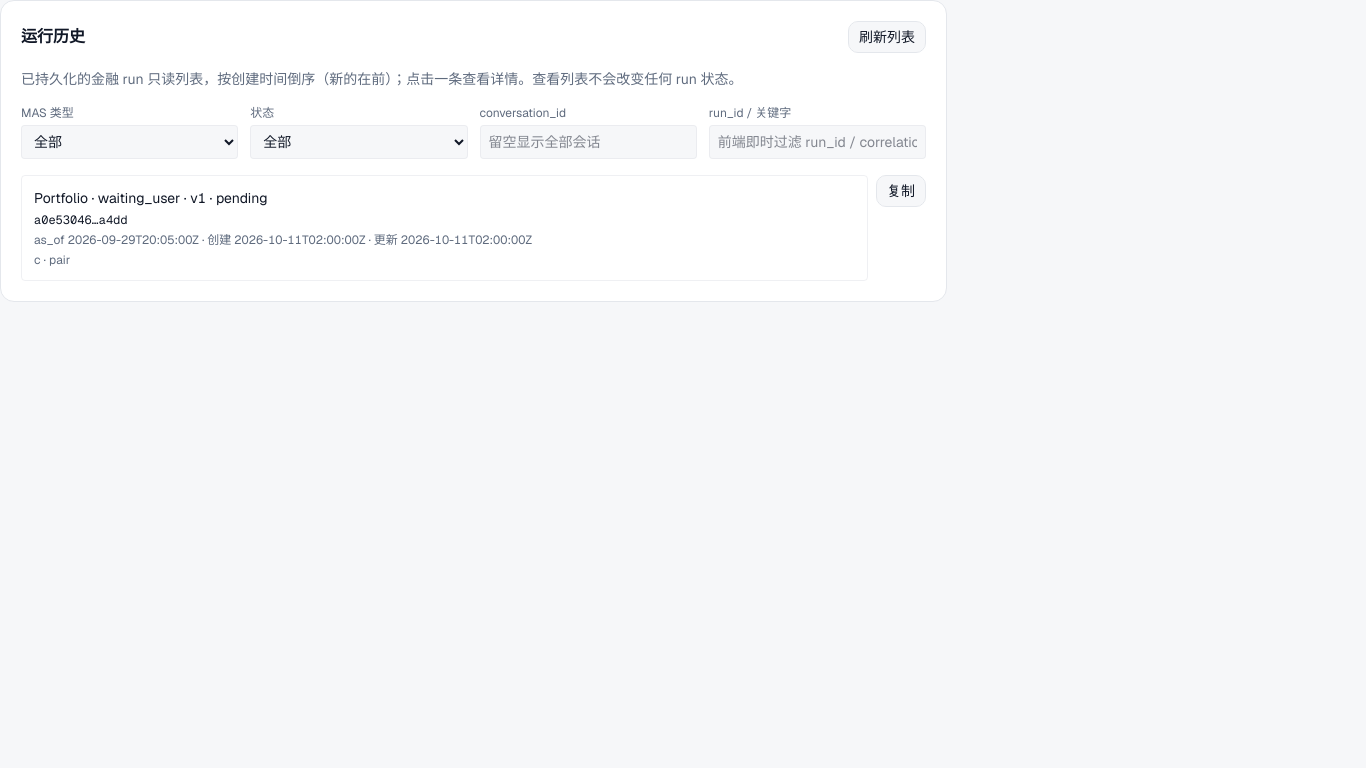
Test case: 金融 MAS 运行历史 › truncates long run ids, copies the full id and keeps paired portfolio runs labelled Portfolio
Expected: the text "a0e53046…a4dd" is shown, [34,212,128,228]
Expected: the text "Portfolio · waiting_user · v1 · pending" is shown, [34,189,268,207]
Click the button "复制" at (901, 191), box [876,175,926,207]
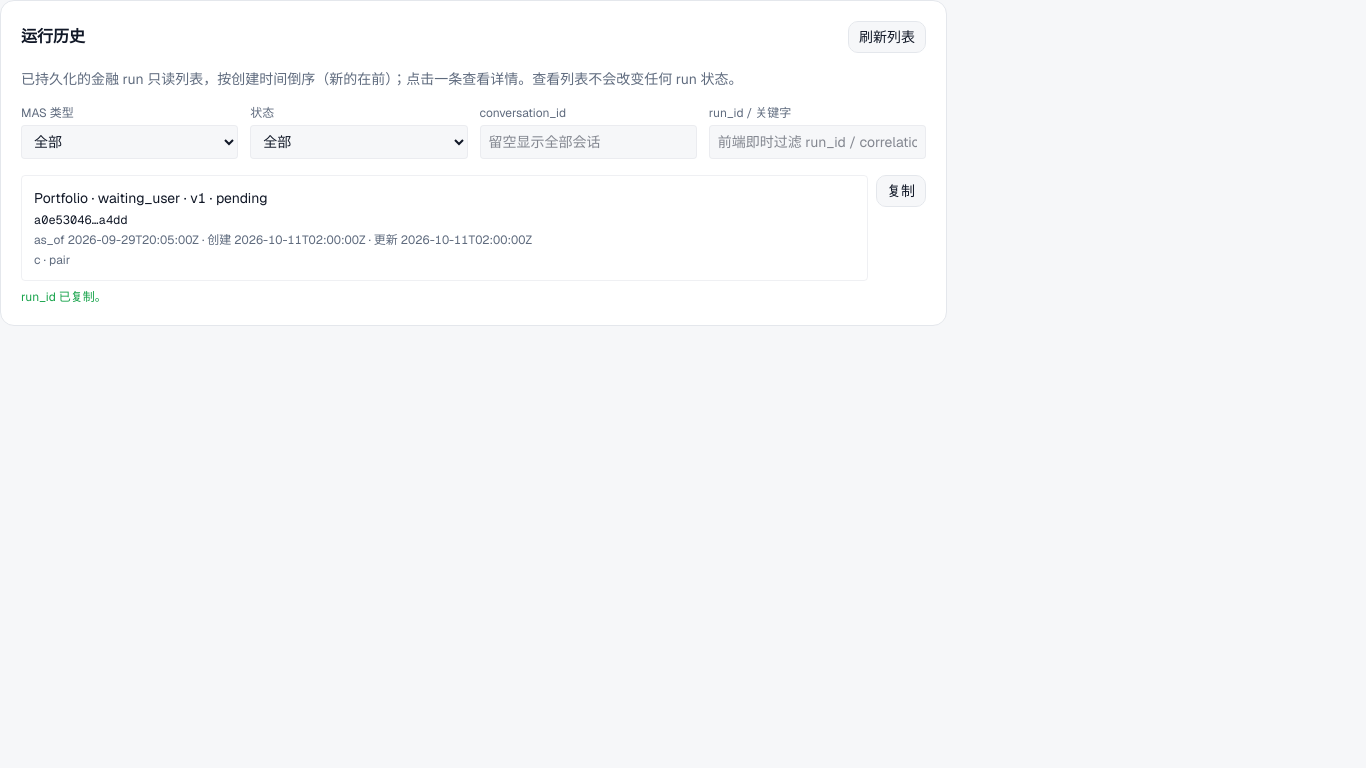
Expected: the text "run_id 已复制。" is shown, [21,289,107,305]
Click the button with aria-label "查看运行 a0e53046-e4f2-49cf-bb5d-3104856da4dd" at (61, 198), box [21,175,868,281]
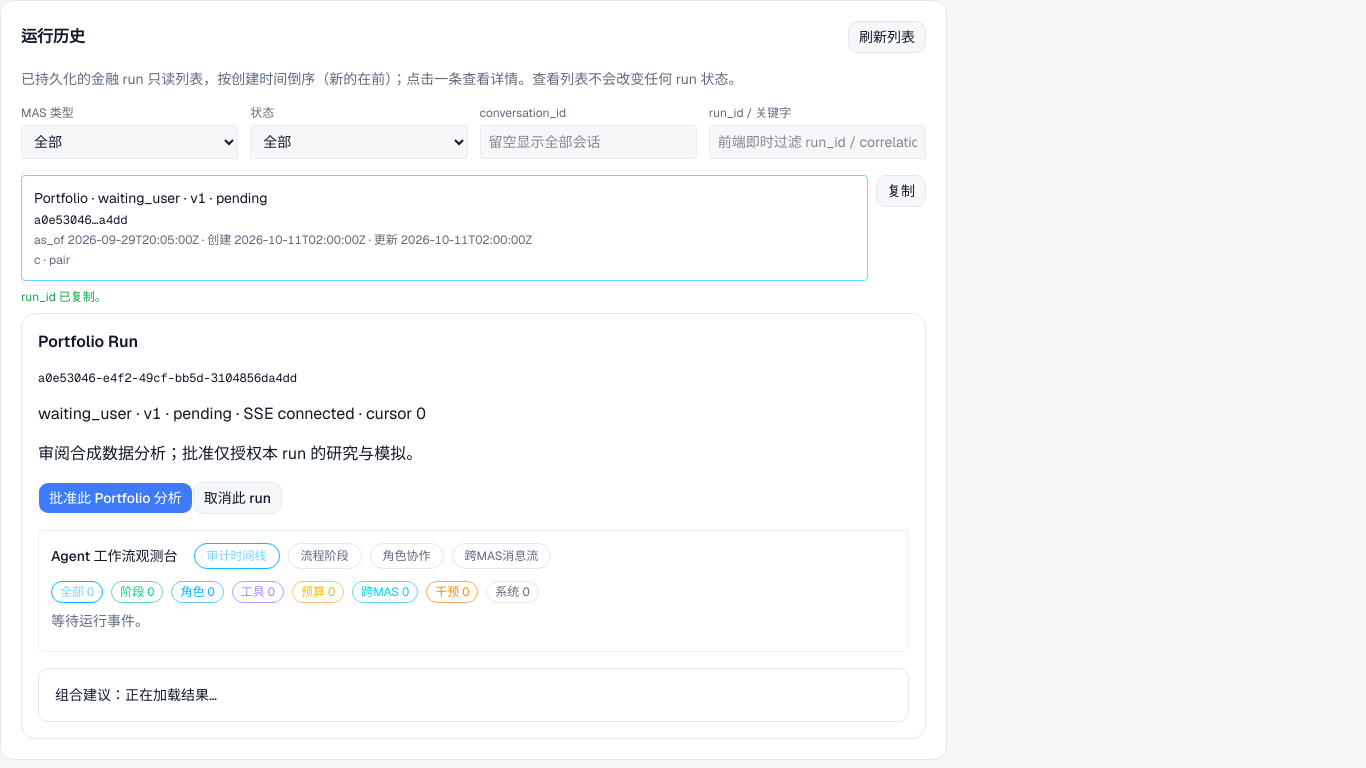
Expected: the button "批准此 Portfolio 分析" is shown, [38,482,193,514]
